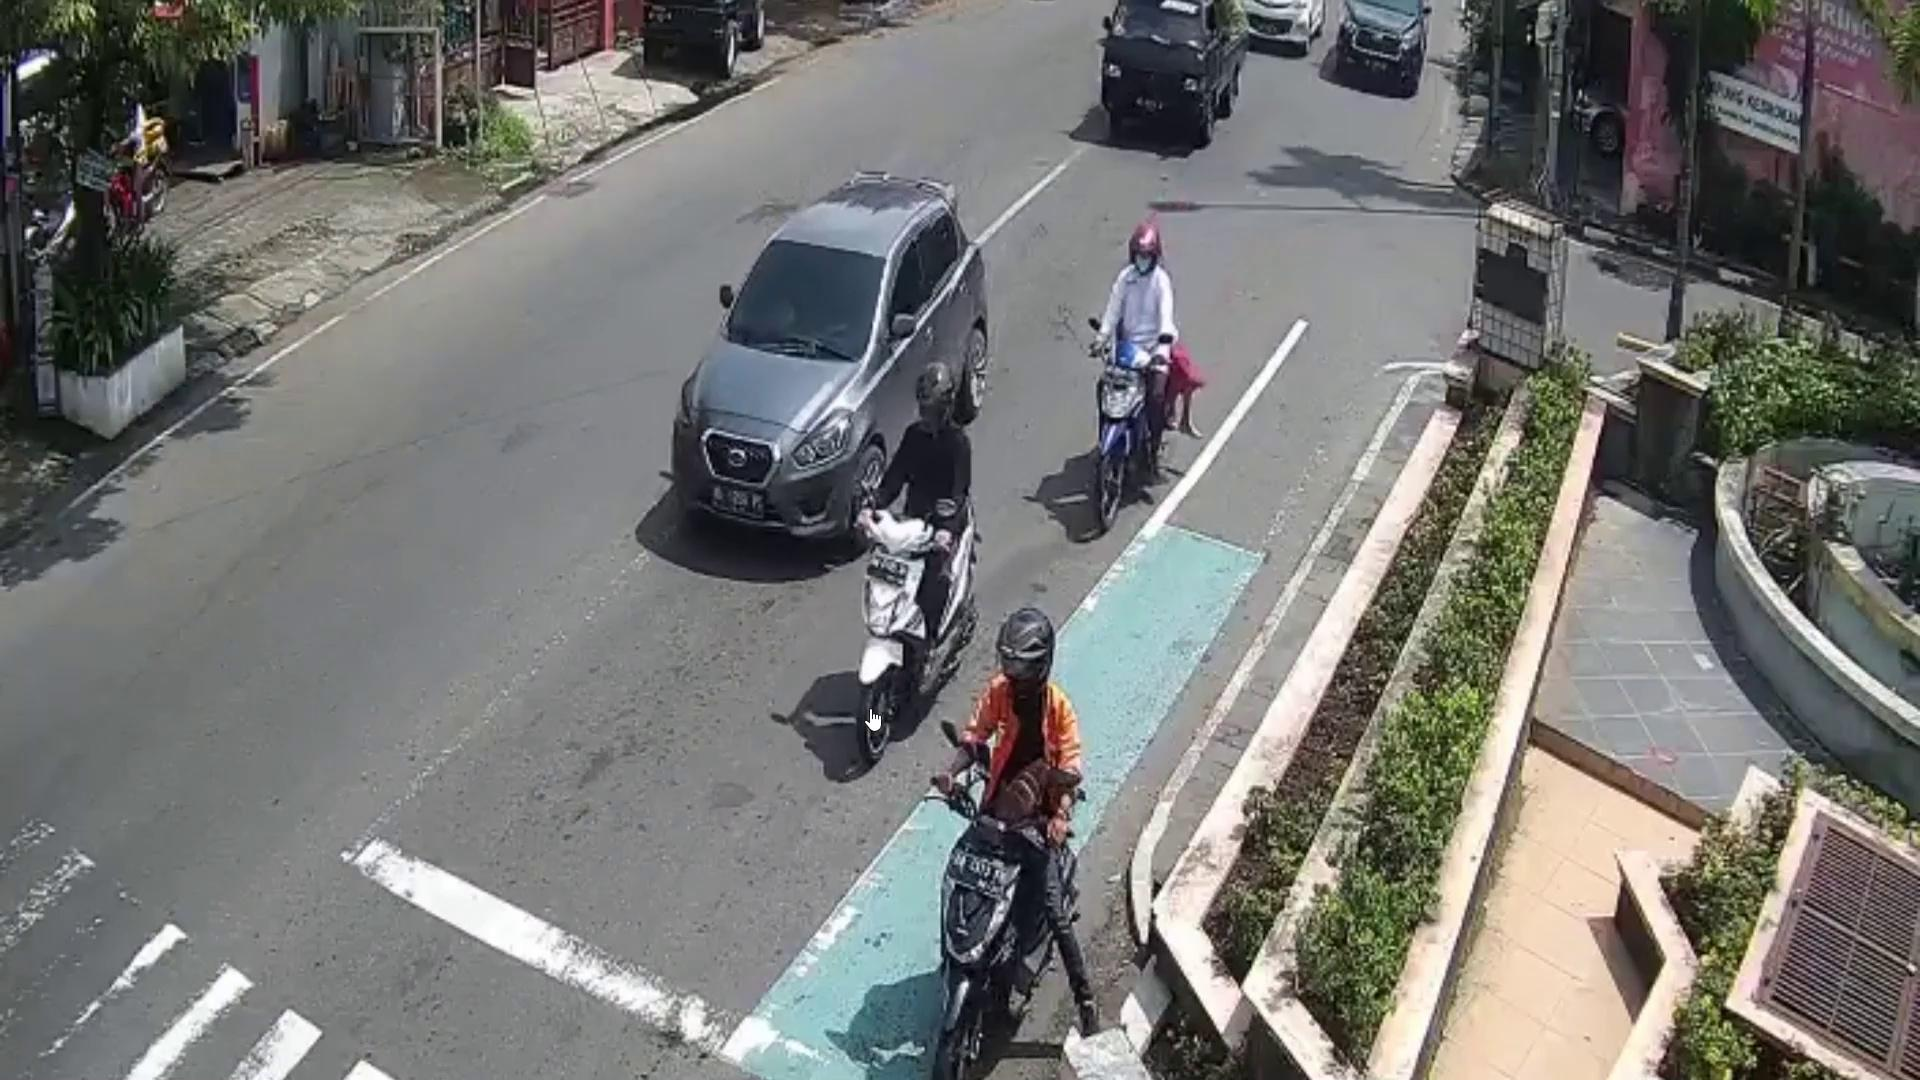car: (666, 165, 992, 547), (1108, 0, 1244, 153), (1337, 0, 1428, 92)
motorbike: (932, 787, 1071, 1080), (849, 501, 978, 760), (1089, 336, 1163, 529)
